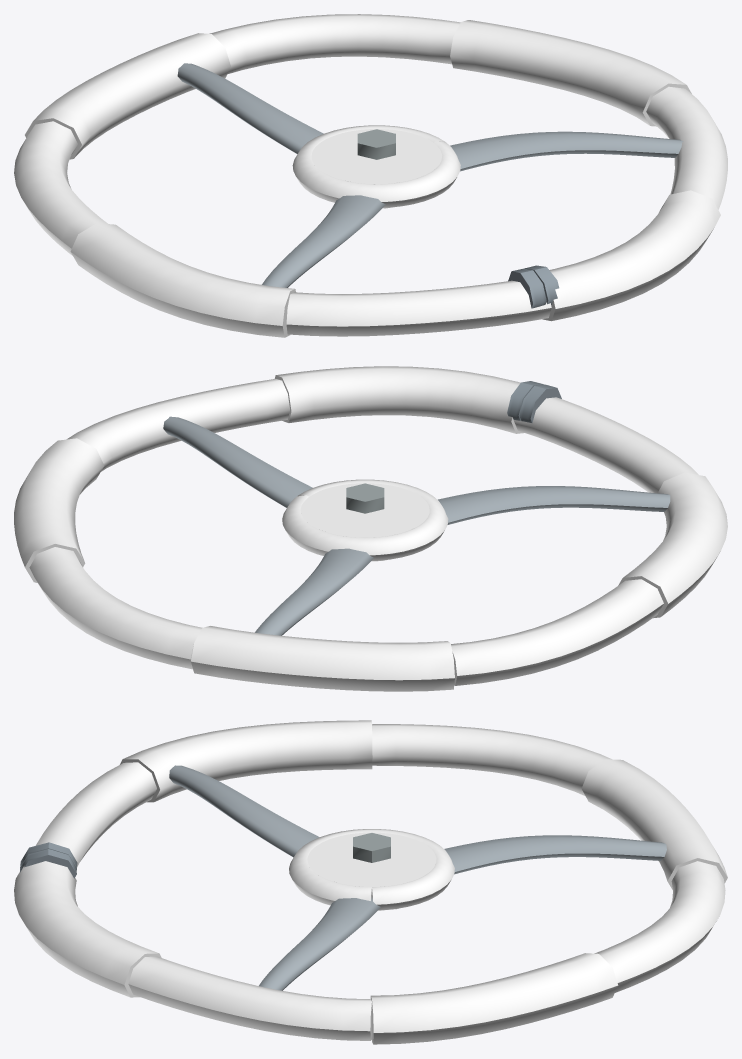
The model's file is Wheel_06_N_青艇・銀引.glb.
3 views of the same model, one above another, from view 1: azimuth 30°, elevation 25°; view 2: azimuth 150°, elevation 25°; view 3: azimuth 270°, elevation 25° (orthographic).
Parts seen in each view (by area): view 1: Wheel_06_N; view 2: Wheel_06_N; view 3: Wheel_06_N.
Part boxes in pixels (x1,y1,x2,y2): Wheel_06_N: (14, 14, 727, 337); Wheel_06_N: (14, 366, 727, 691); Wheel_06_N: (14, 720, 727, 1044).
Bounding box in the file's own units: 0.326 × 0.0299 × 0.3266.
4 materials, 4 textured.
